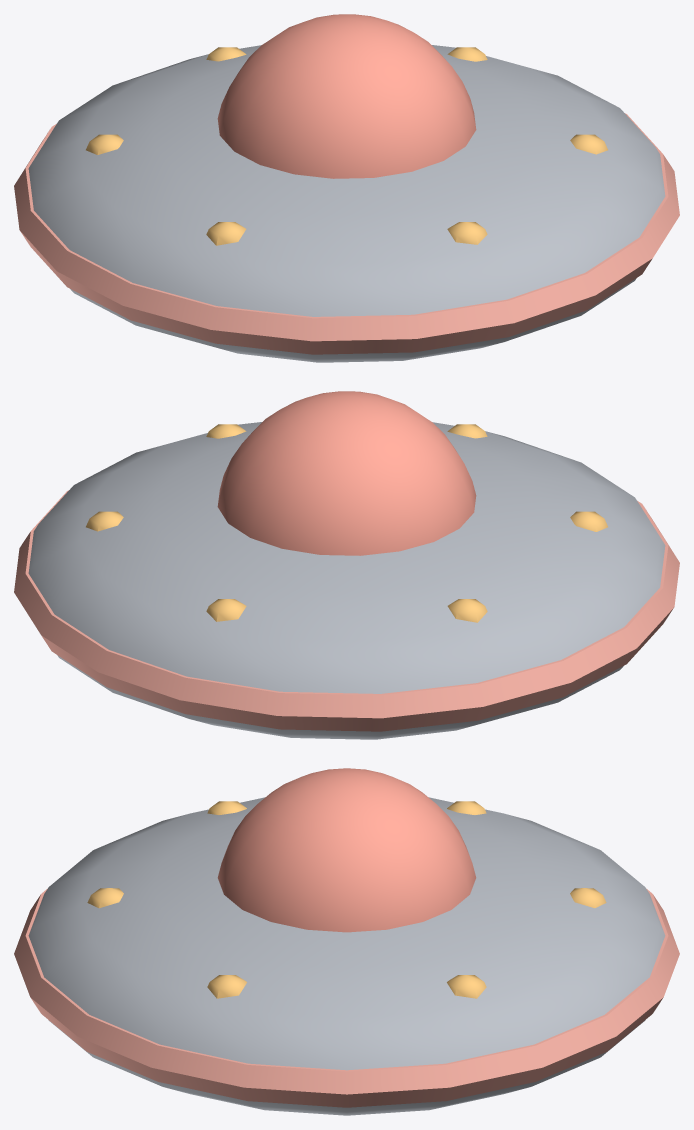
The model's file is ic_mine.glb.
3 renders of one model, top to bottom at view 1: azimuth 30°, elevation 25°; view 2: azimuth 150°, elevation 25°; view 3: azimuth 270°, elevation 25°, orthographic.
Visible parts, largest first — view 1: ic_mine; view 2: ic_mine; view 3: ic_mine.
Boxes of the visible parts, box(x1,y1,x2,y2) form: ic_mine: box(14, 14, 679, 362); ic_mine: box(14, 391, 679, 739); ic_mine: box(14, 768, 679, 1115).
Size of the model in its own units: 1.01 by 0.43 by 1.01.
